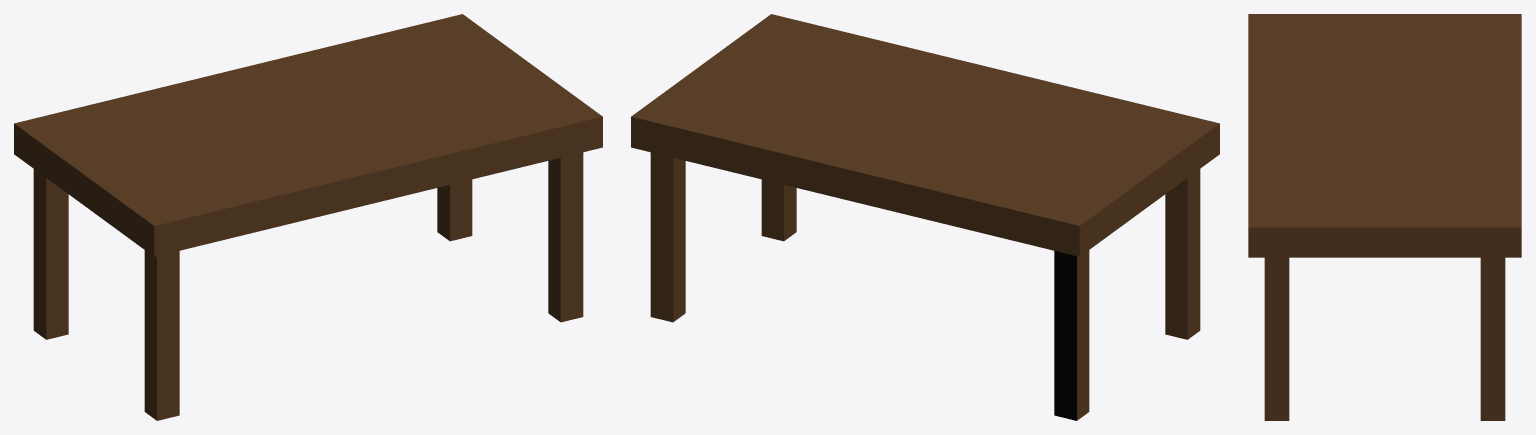
The model's file is SM_Table.fbx.
3 views of the same model, side by side, from view 1: azimuth 30°, elevation 25°; view 2: azimuth 150°, elevation 25°; view 3: azimuth 270°, elevation 25° (orthographic). The views are drawn at different scales.
Visible parts, largest first — view 1: SM_Table; view 2: SM_Table; view 3: SM_Table.
Part boxes in pixels (box(x1,y1,x2,y2)): SM_Table: box(14, 14, 602, 420); SM_Table: box(631, 14, 1219, 420); SM_Table: box(1248, 14, 1521, 420).
Size of the model in its own units: 1.87 by 0.812 by 1.01.
